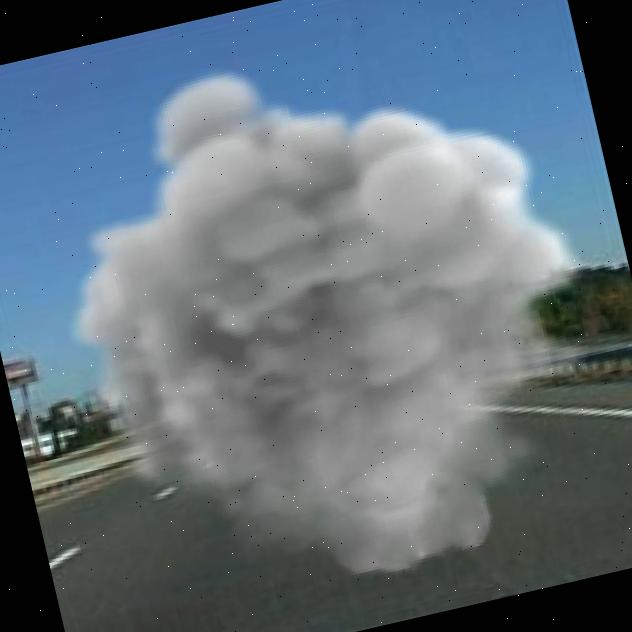smoke: (17, 0, 632, 632)
